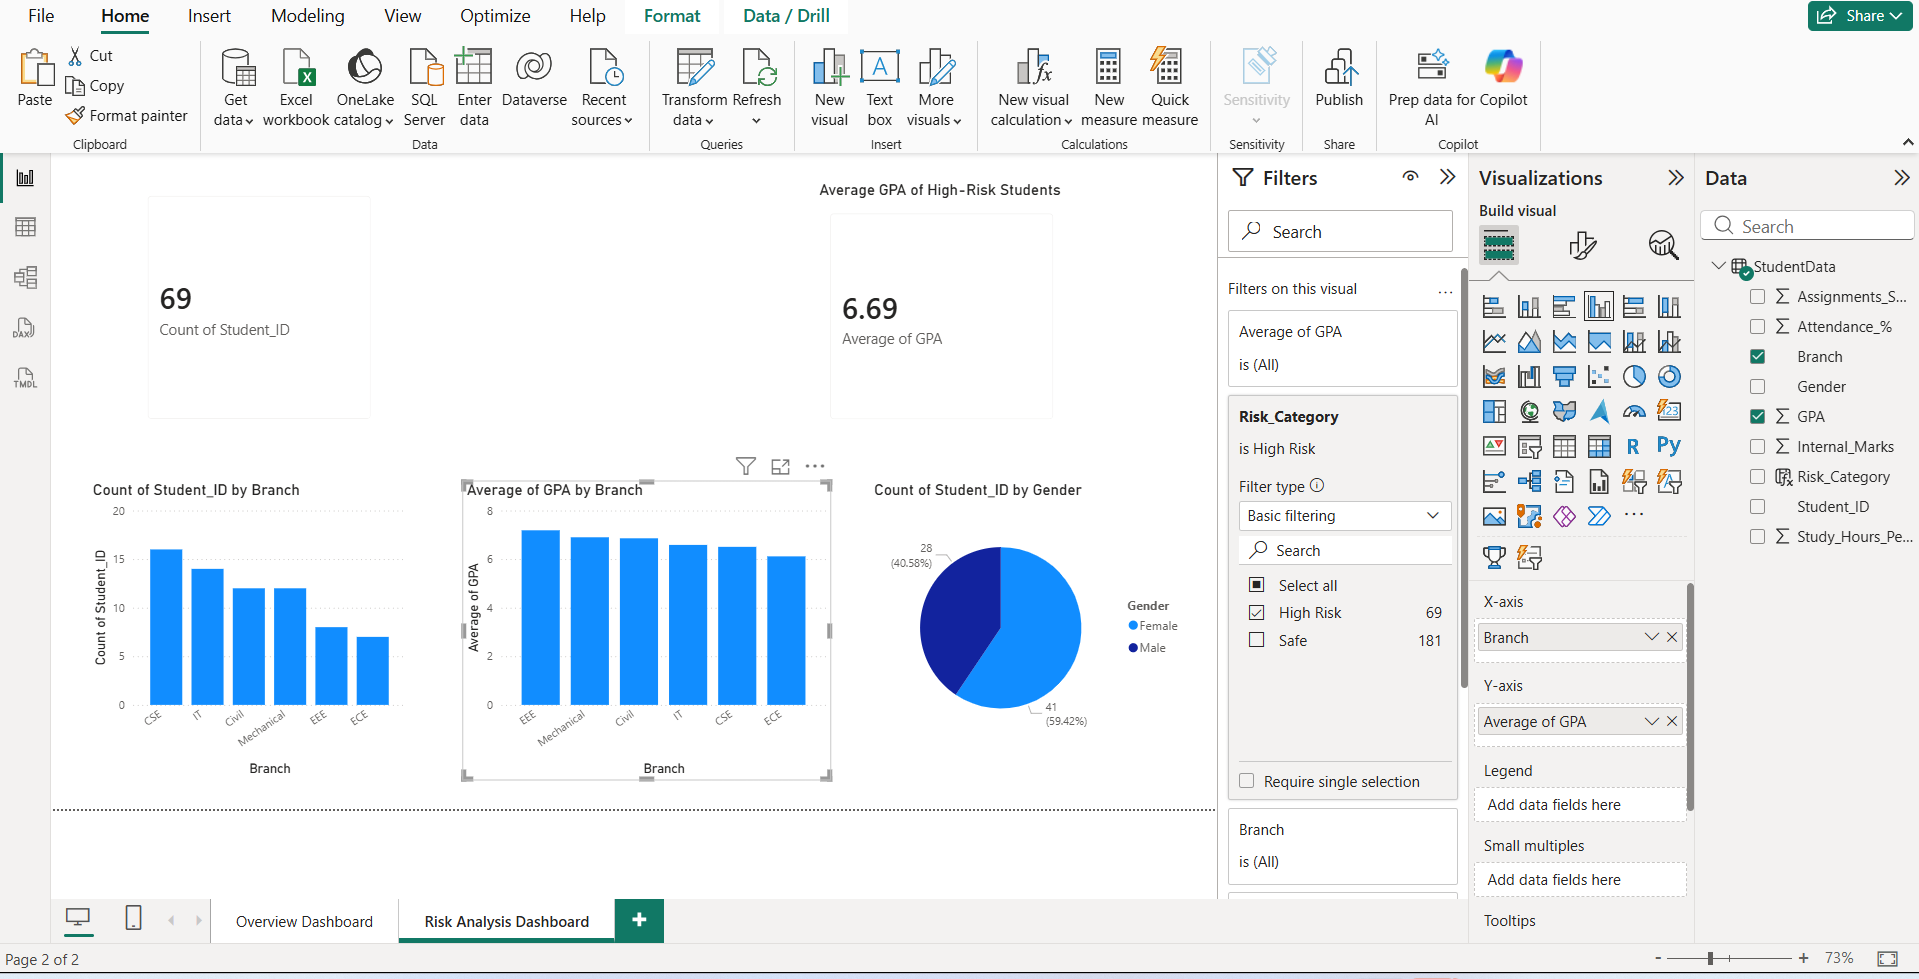

What the dashboard file says about the page in this screenshot:
{"tool":"powerbi","page":{"name":"Risk Analysis Dashboard ","canvas":[1280,720],"ordinal":1},"visuals":[{"type":"cardVisual","fields":{"Data":["CountNonNull(StudentData.Student_ID)"]},"box":[89.2,30.2,279.9,279.9],"z":0},{"type":"cardVisual","title":"Average GPA of High-Risk Students","fields":{"Data":["Avg(StudentData.GPA)"]},"box":[838.4,30.2,279.9,279.9],"z":1},{"type":"clusteredColumnChart","fields":{"Category":["StudentData.Branch"],"Y":["CountNonNull(StudentData.Student_ID)"]},"box":[41.2,359.5,354,329.3],"z":2},{"type":"pieChart","fields":{"Category":["StudentData.Gender"],"Y":["CountNonNull(StudentData.Student_ID)"]},"box":[898.8,359.5,354,304.6],"z":3},{"type":"clusteredColumnChart","fields":{"Category":["StudentData.Branch"],"Y":["Avg(StudentData.GPA)"]},"box":[451.5,359.5,404.8,329.3],"z":4}]}

Visuals, with their boxes on the page's 1280x720 design canvas (x1, y1, x2, y2). These are canvas units, not pixel positions in the 1919x979 screenshot, which may show the page scaled, cropped or inside an application window:
cardVisual - CountNonNull(StudentData.Student_ID): bbox=[89, 30, 369, 310]
"Average GPA of High-Risk Students" cardVisual: bbox=[838, 30, 1118, 310]
clusteredColumnChart - StudentData.Branch x CountNonNull(StudentData.Student_ID): bbox=[41, 360, 395, 689]
pieChart - StudentData.Gender x CountNonNull(StudentData.Student_ID): bbox=[899, 360, 1253, 664]
clusteredColumnChart - StudentData.Branch x Avg(StudentData.GPA): bbox=[452, 360, 856, 689]
